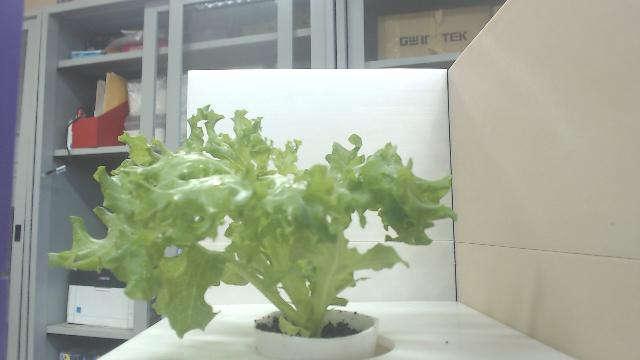Harvest Stage: (49, 104, 459, 340)
